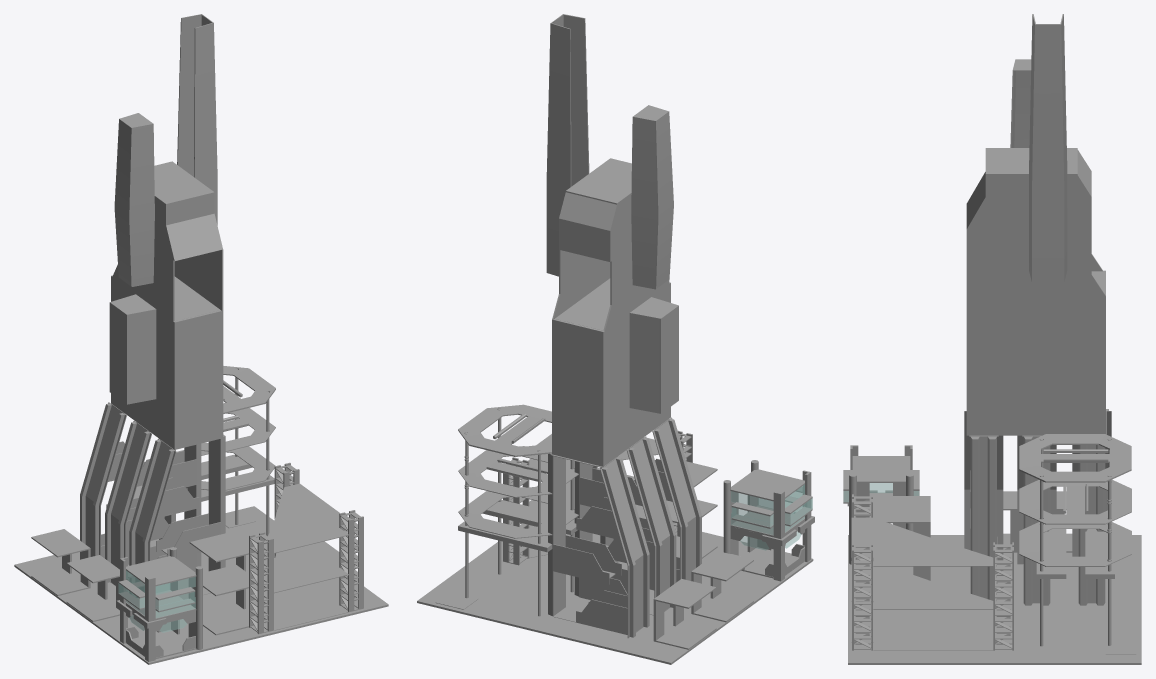
3 renders of one model, left to right at view 1: azimuth 30°, elevation 25°; view 2: azimuth 150°, elevation 25°; view 3: azimuth 270°, elevation 25°, orthographic. The views are drawn at different scales.
Visible parts, largest first — view 1: USE_00166, Small_building, USE_00179, USE_00180, USE_00146, USE_00192 (×3), USE_00177, USE_0074, USE_00202 (×3), polySurface251, USE_0073, USE_00203 (×3) (+16 smaller); view 2: USE_00166, USE_00146, Small_building, USE_00180, USE_00179, USE_00192 (×3), USE_00177, USE_00202 (×3), USE_00203 (×3), WALK_area_Octogon_LEVELS_003, polySurface266, polySurface265 (+14 smaller); view 3: USE_00166, USE_00146, USE_00180, USE_0074, USE_0073, WALK_area_Octogon_LEVELS_003, USE_0072, Small_building, USE_00192 (×3), WALK_area_Octogon_LEVELS_002, USE_00200 (×3), USE_00199 (×3) (+14 smaller).
Part boxes in pixels (bbox=[...]): USE_00166: bbox=[111, 161, 223, 449]; Small_building: bbox=[116, 547, 202, 661]; USE_00179: bbox=[114, 113, 154, 286]; USE_00180: bbox=[177, 14, 217, 225]; USE_00146: bbox=[14, 506, 388, 664]; USE_00192 (×3): bbox=[85, 402, 176, 597]; USE_00177: bbox=[109, 294, 156, 404]; USE_0074: bbox=[265, 483, 348, 553]; USE_00202 (×3): bbox=[80, 403, 161, 595]; polySurface251: bbox=[189, 530, 257, 635]; USE_0073: bbox=[265, 541, 348, 593]; USE_00203 (×3): bbox=[93, 413, 174, 592]; USE_00166: bbox=[552, 158, 670, 466]; USE_00146: bbox=[417, 525, 813, 664]; Small_building: bbox=[723, 460, 814, 581]; USE_00180: bbox=[546, 14, 589, 276]; USE_00179: bbox=[631, 105, 673, 289]; USE_00192 (×3): bbox=[600, 417, 695, 638]; USE_00177: bbox=[629, 297, 678, 413]; USE_00202 (×3): bbox=[602, 429, 688, 637]; USE_00203 (×3): bbox=[616, 418, 701, 627]; WALK_area_Octogon_LEVELS_003: bbox=[458, 404, 551, 456]; polySurface266: bbox=[653, 578, 716, 649]; polySurface265: bbox=[691, 551, 753, 622]; USE_00166: bbox=[966, 148, 1105, 435]; USE_00146: bbox=[848, 535, 1141, 664]; USE_00180: bbox=[1029, 14, 1067, 282]; USE_0074: bbox=[851, 517, 993, 566]; USE_0073: bbox=[851, 561, 993, 609]; WALK_area_Octogon_LEVELS_003: bbox=[1019, 434, 1131, 482]; USE_0072: bbox=[851, 602, 993, 650]; Small_building: bbox=[843, 445, 919, 564]; USE_00192 (×3): bbox=[964, 411, 1111, 564]; WALK_area_Octogon_LEVELS_002: bbox=[1019, 479, 1131, 524]; USE_00200 (×3): bbox=[970, 436, 1087, 605]; USE_00199 (×3): bbox=[987, 436, 1105, 605].
Bounding box in the file's own units: 6.49 × 13.76 × 6.28.
